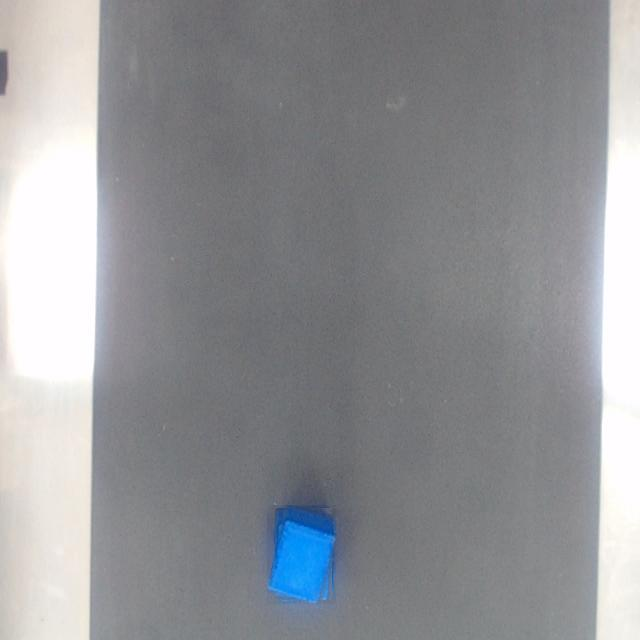Azul: (268, 506, 336, 604)
